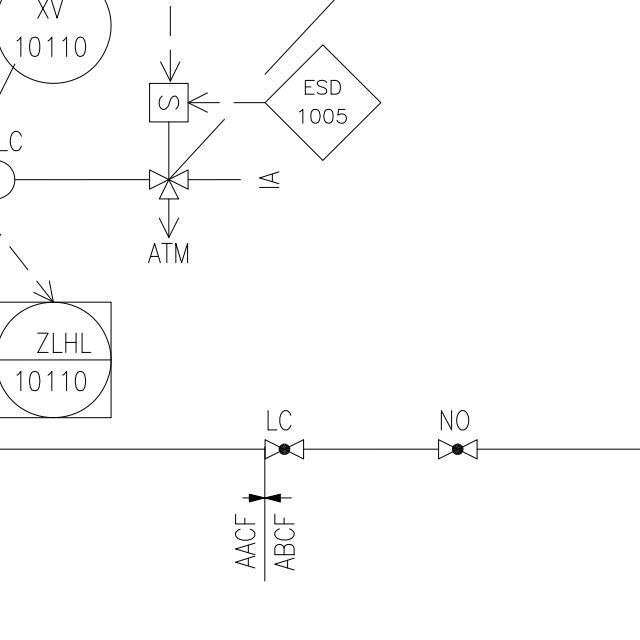3W: (145, 166, 194, 207)
BV2: (257, 436, 316, 465), (432, 435, 484, 463)
SV: (138, 78, 195, 195)
